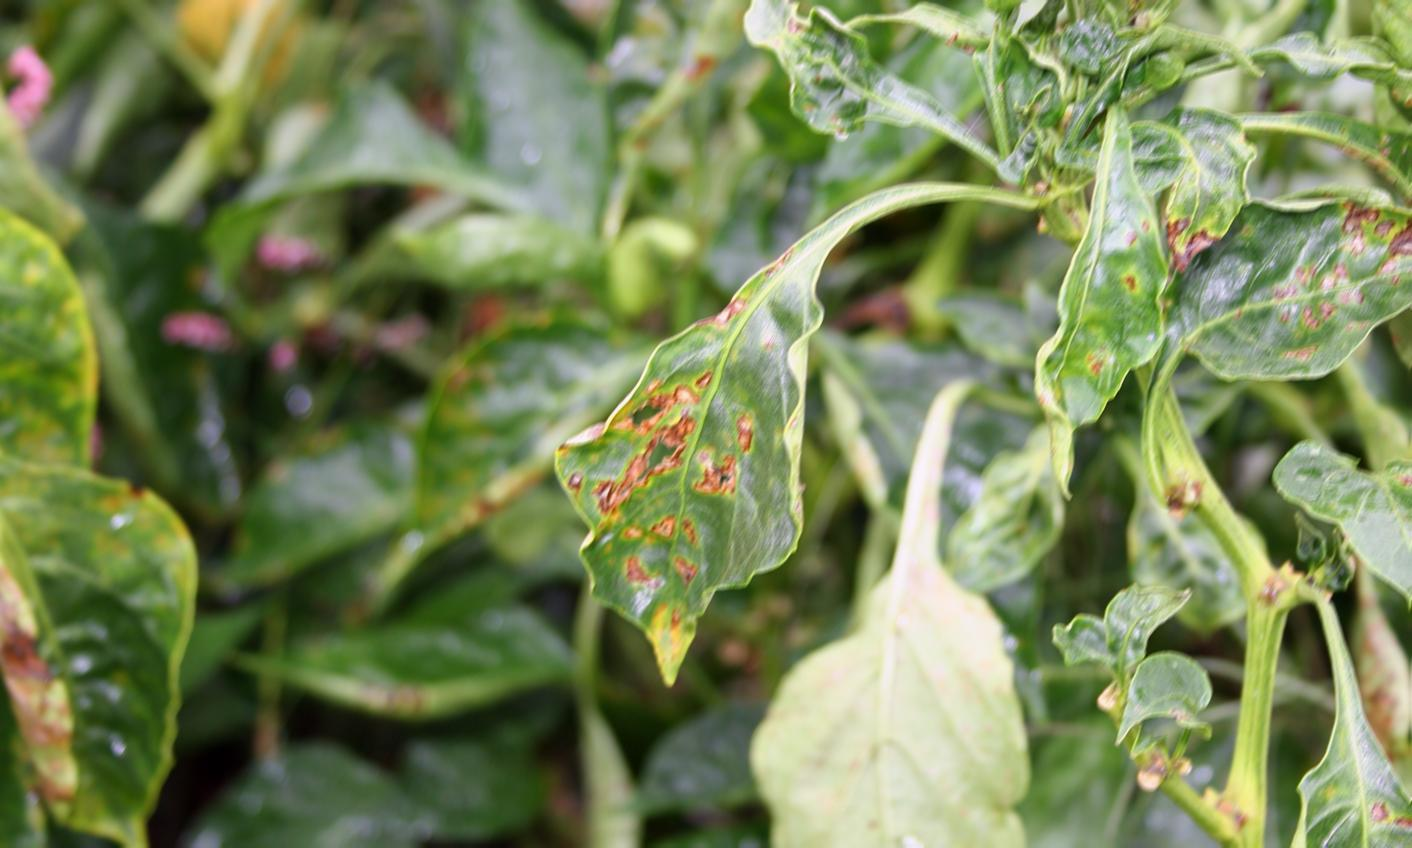Tomato leaf bacterial spot: (534, 218, 877, 691), (0, 427, 218, 848), (1006, 131, 1186, 440), (1194, 155, 1412, 384)
